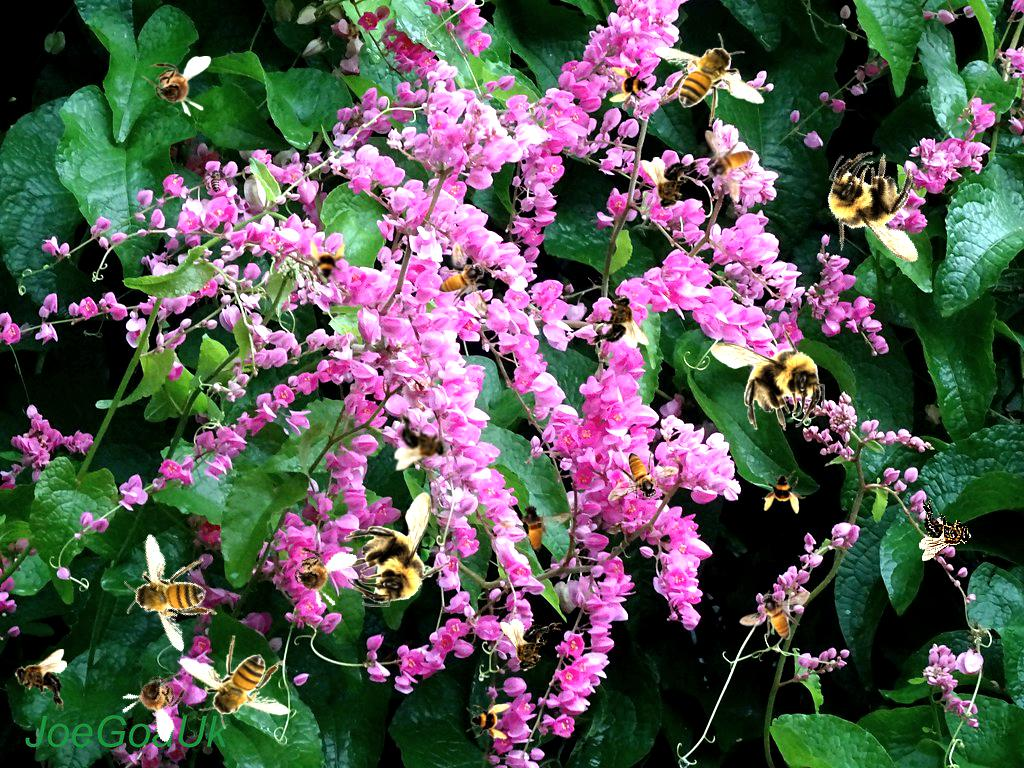Bee: (802, 136, 953, 283), (96, 517, 241, 663), (710, 324, 825, 431), (343, 492, 450, 607), (179, 635, 290, 729), (654, 33, 765, 127), (112, 652, 199, 744), (273, 535, 358, 615), (490, 492, 574, 561), (141, 56, 211, 117), (392, 408, 451, 476), (739, 590, 810, 640), (608, 452, 679, 502), (704, 130, 754, 201), (438, 242, 488, 313), (500, 619, 562, 672), (919, 499, 972, 561), (14, 649, 67, 711), (587, 295, 649, 348), (641, 157, 703, 210), (303, 240, 347, 284), (466, 697, 510, 741), (609, 65, 653, 109), (762, 470, 806, 514)
